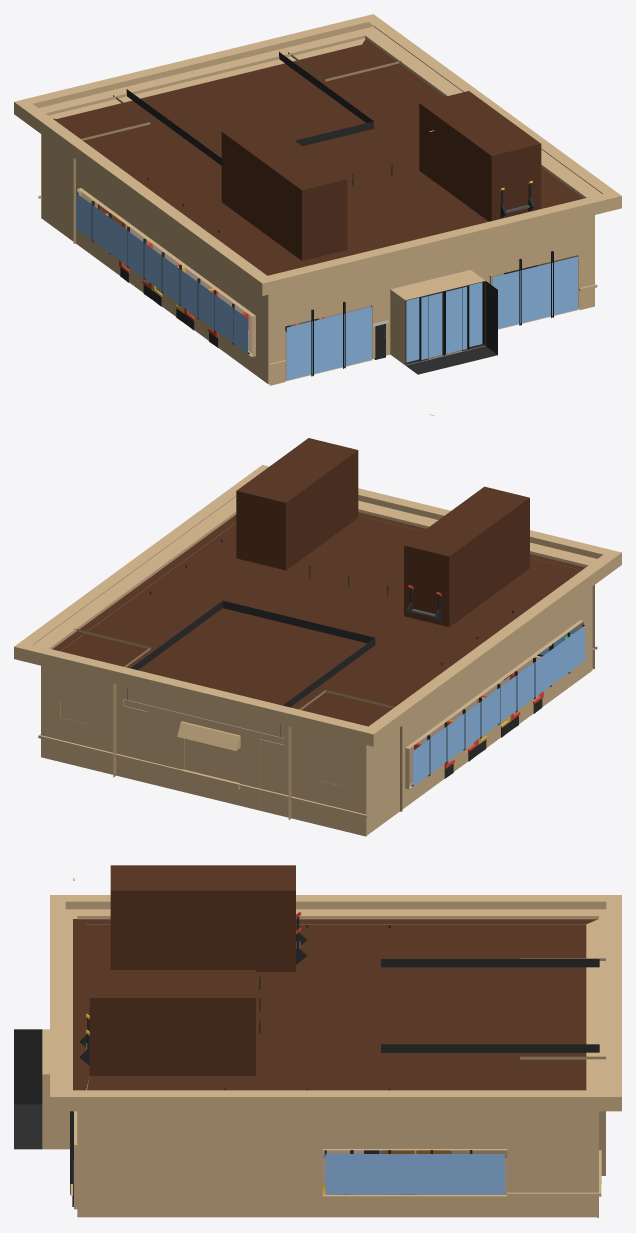
File: building_HappyBurger_in.fbx
3 renders of one model, top to bottom at view 1: azimuth 30°, elevation 25°; view 2: azimuth 150°, elevation 25°; view 3: azimuth 270°, elevation 25°, orthographic. The views are drawn at different scales.
Visible parts, largest first — view 1: Cube.002, main_structure.003, door_1.001, door_2.001; view 2: Cube.002, main_structure.003; view 3: Cube.002, main_structure.003.
Part boxes in pixels (<box>): Cube.002: <box>14,14,621,385</box>; main_structure.003: <box>126,52,373,165</box>; door_1.001: <box>444,285,469,355</box>; door_2.001: <box>419,291,444,361</box>; Cube.002: <box>14,414,621,836</box>; main_structure.003: <box>123,600,375,810</box>; Cube.002: <box>14,865,621,1217</box>; main_structure.003: <box>381,959,599,1157</box>.
Bounding box in the file's own units: 1897 × 2414 × 1124.
